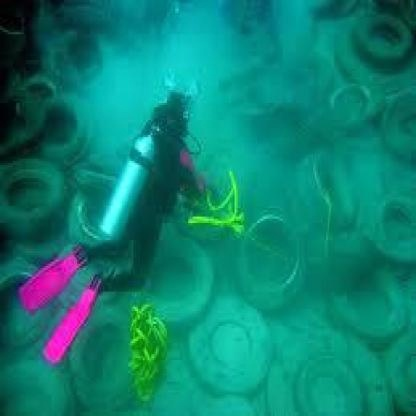net: (122, 296, 167, 412), (200, 170, 248, 240)
tire: (263, 339, 400, 416), (186, 298, 281, 405), (126, 225, 224, 320), (321, 10, 416, 96), (323, 259, 416, 339), (223, 206, 305, 296), (56, 302, 130, 399), (2, 152, 77, 240), (54, 161, 124, 240), (1, 66, 50, 170), (1, 255, 52, 350), (3, 354, 72, 416), (42, 86, 96, 163), (360, 184, 416, 258), (366, 83, 416, 141), (320, 88, 378, 129)
